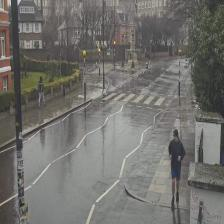person: (168, 129, 185, 205)
